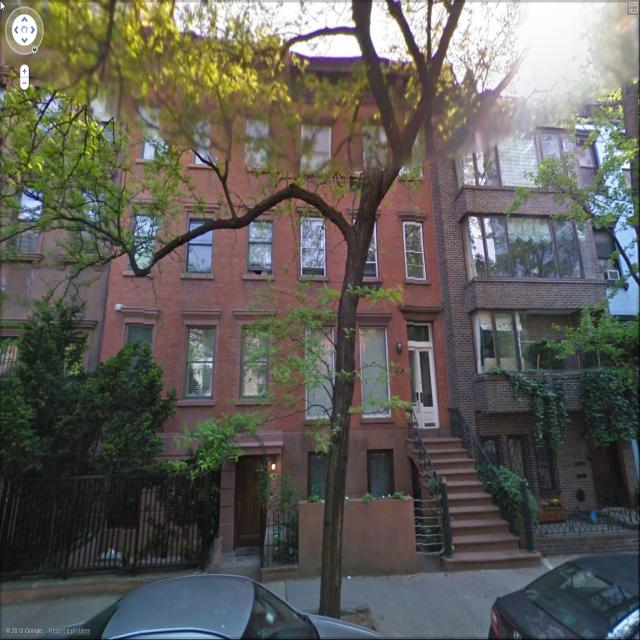b_2: (106, 46, 454, 485), (435, 73, 634, 450), (2, 1, 106, 447)
